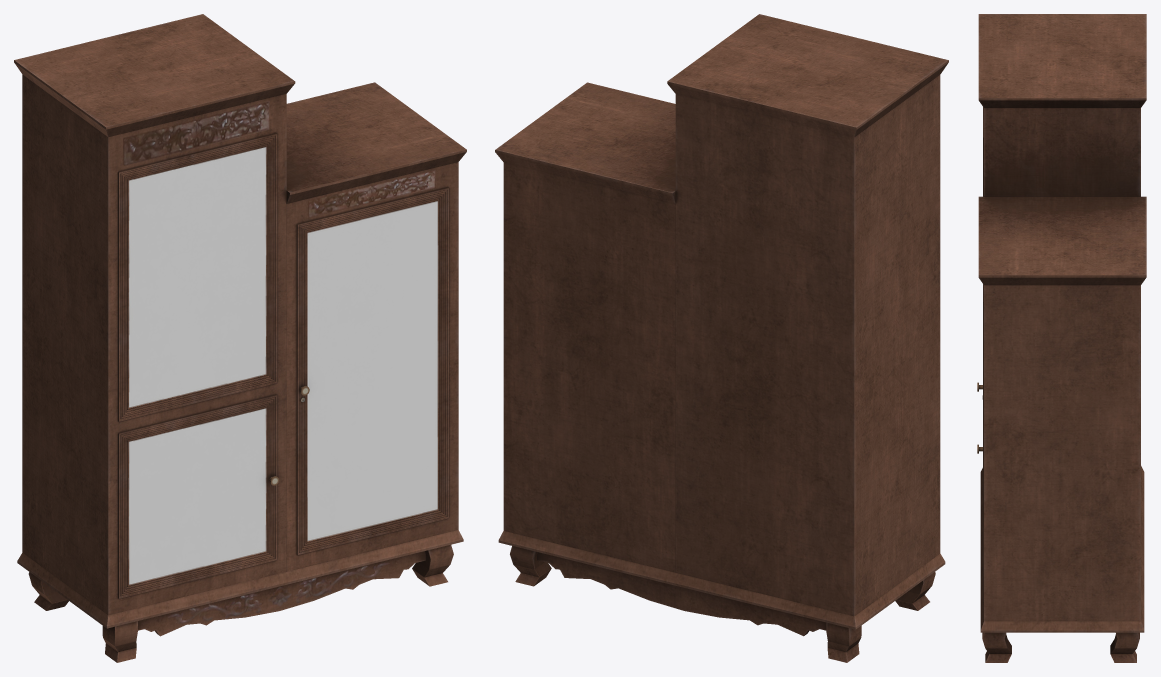
File: a_cabinet_phung_hung_old_house_hoi_an.glb
3 renders of one model, left to right at view 1: azimuth 30°, elevation 25°; view 2: azimuth 150°, elevation 25°; view 3: azimuth 270°, elevation 25°, orthographic. The views are drawn at different scales.
Visible parts, largest first — view 1: Tugoc_001_Tugoc_0; view 2: Tugoc_001_Tugoc_0; view 3: Tugoc_001_Tugoc_0.
Part boxes in pixels (<box>): Tugoc_001_Tugoc_0: <box>14,14,466,662</box>; Tugoc_001_Tugoc_0: <box>495,14,948,662</box>; Tugoc_001_Tugoc_0: <box>977,14,1146,662</box>.
Bounding box in the file's own units: 1.7 × 2.44 × 0.7548.
1 material, 1 textured.
